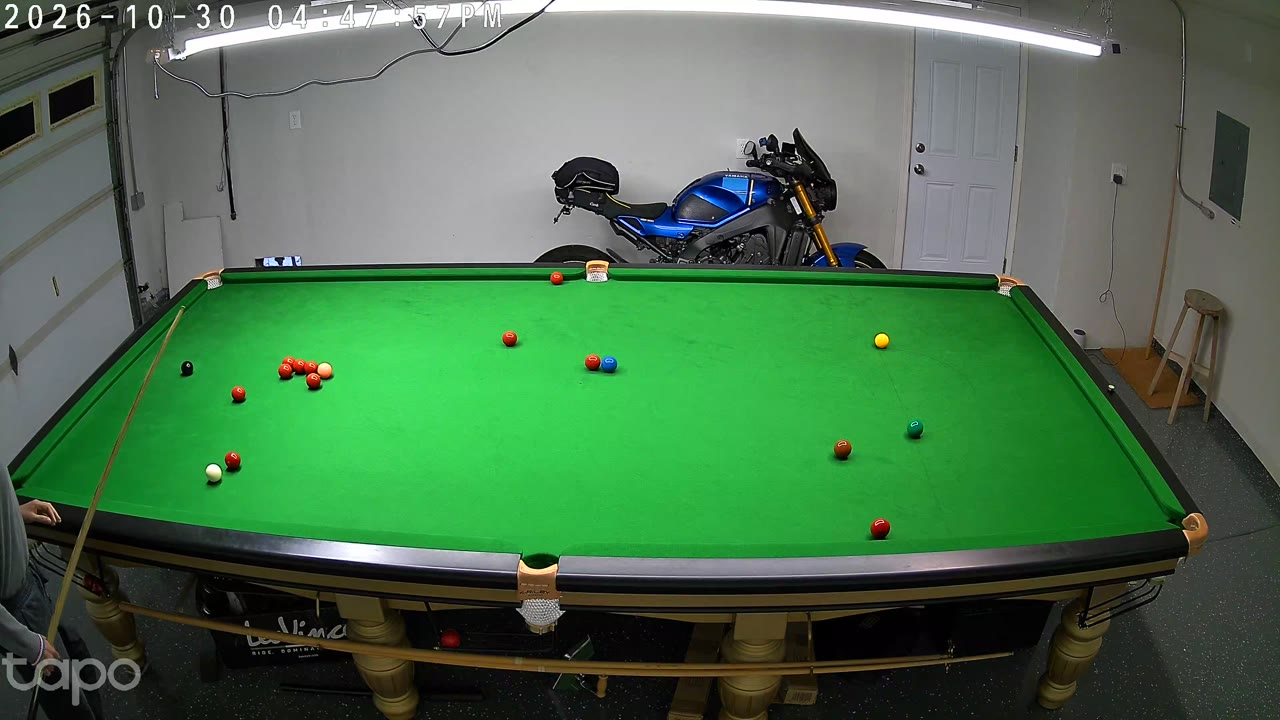black: (181, 359, 193, 379)
blue: (602, 355, 617, 376)
brown: (834, 438, 852, 463)
green: (907, 417, 923, 441)
pink: (318, 362, 331, 382)
red: (869, 516, 891, 546), (225, 449, 241, 474), (232, 385, 246, 405), (585, 353, 599, 373), (503, 330, 517, 349), (307, 370, 319, 391), (279, 362, 291, 382), (284, 356, 295, 376), (305, 360, 316, 379), (551, 271, 562, 288), (295, 358, 305, 376)
white: (206, 462, 222, 485)
yellow: (875, 332, 889, 351)
